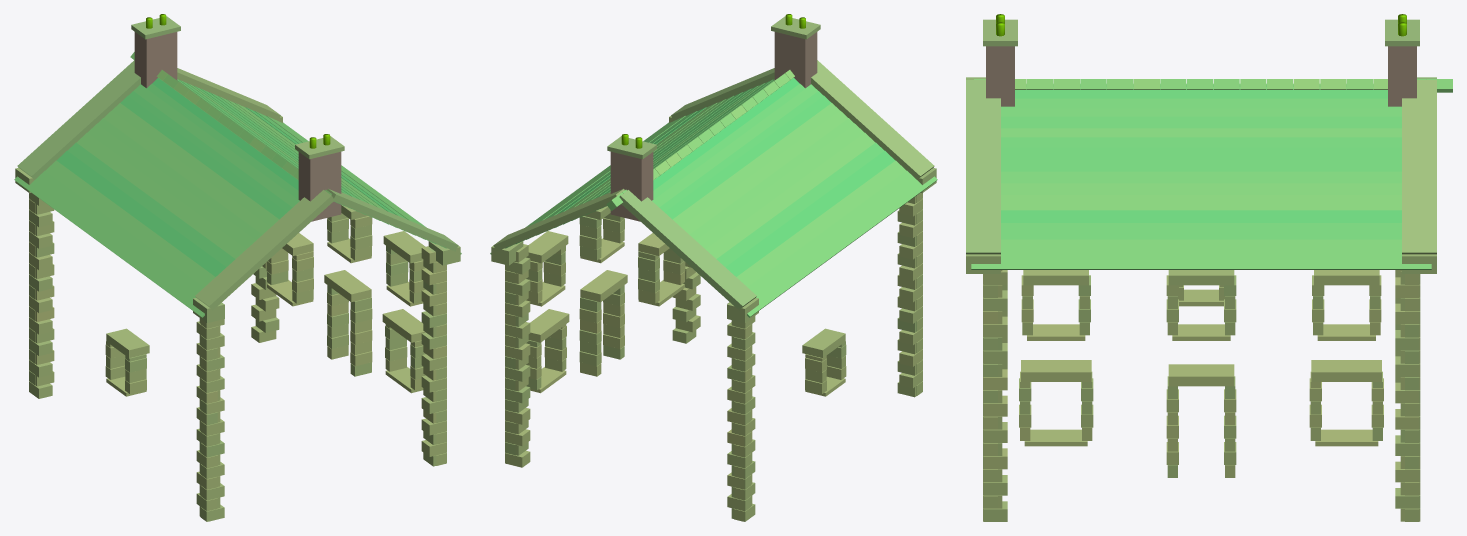
The model's file is SM_Bld_011_Stone.glb.
3 renders of one model, left to right at view 1: azimuth 30°, elevation 25°; view 2: azimuth 150°, elevation 25°; view 3: azimuth 270°, elevation 25°, orthographic. The views are drawn at different scales.
Parts seen in each view (by area): view 1: SM_Bld_011_Stone; view 2: SM_Bld_011_Stone; view 3: SM_Bld_011_Stone.
Part boxes in pixels (x1,y1,x2,y2): SM_Bld_011_Stone: (14, 14, 461, 521); SM_Bld_011_Stone: (490, 14, 937, 521); SM_Bld_011_Stone: (966, 14, 1452, 521).
Size of the model in its own units: 7.61 by 9.8 by 10.05.
